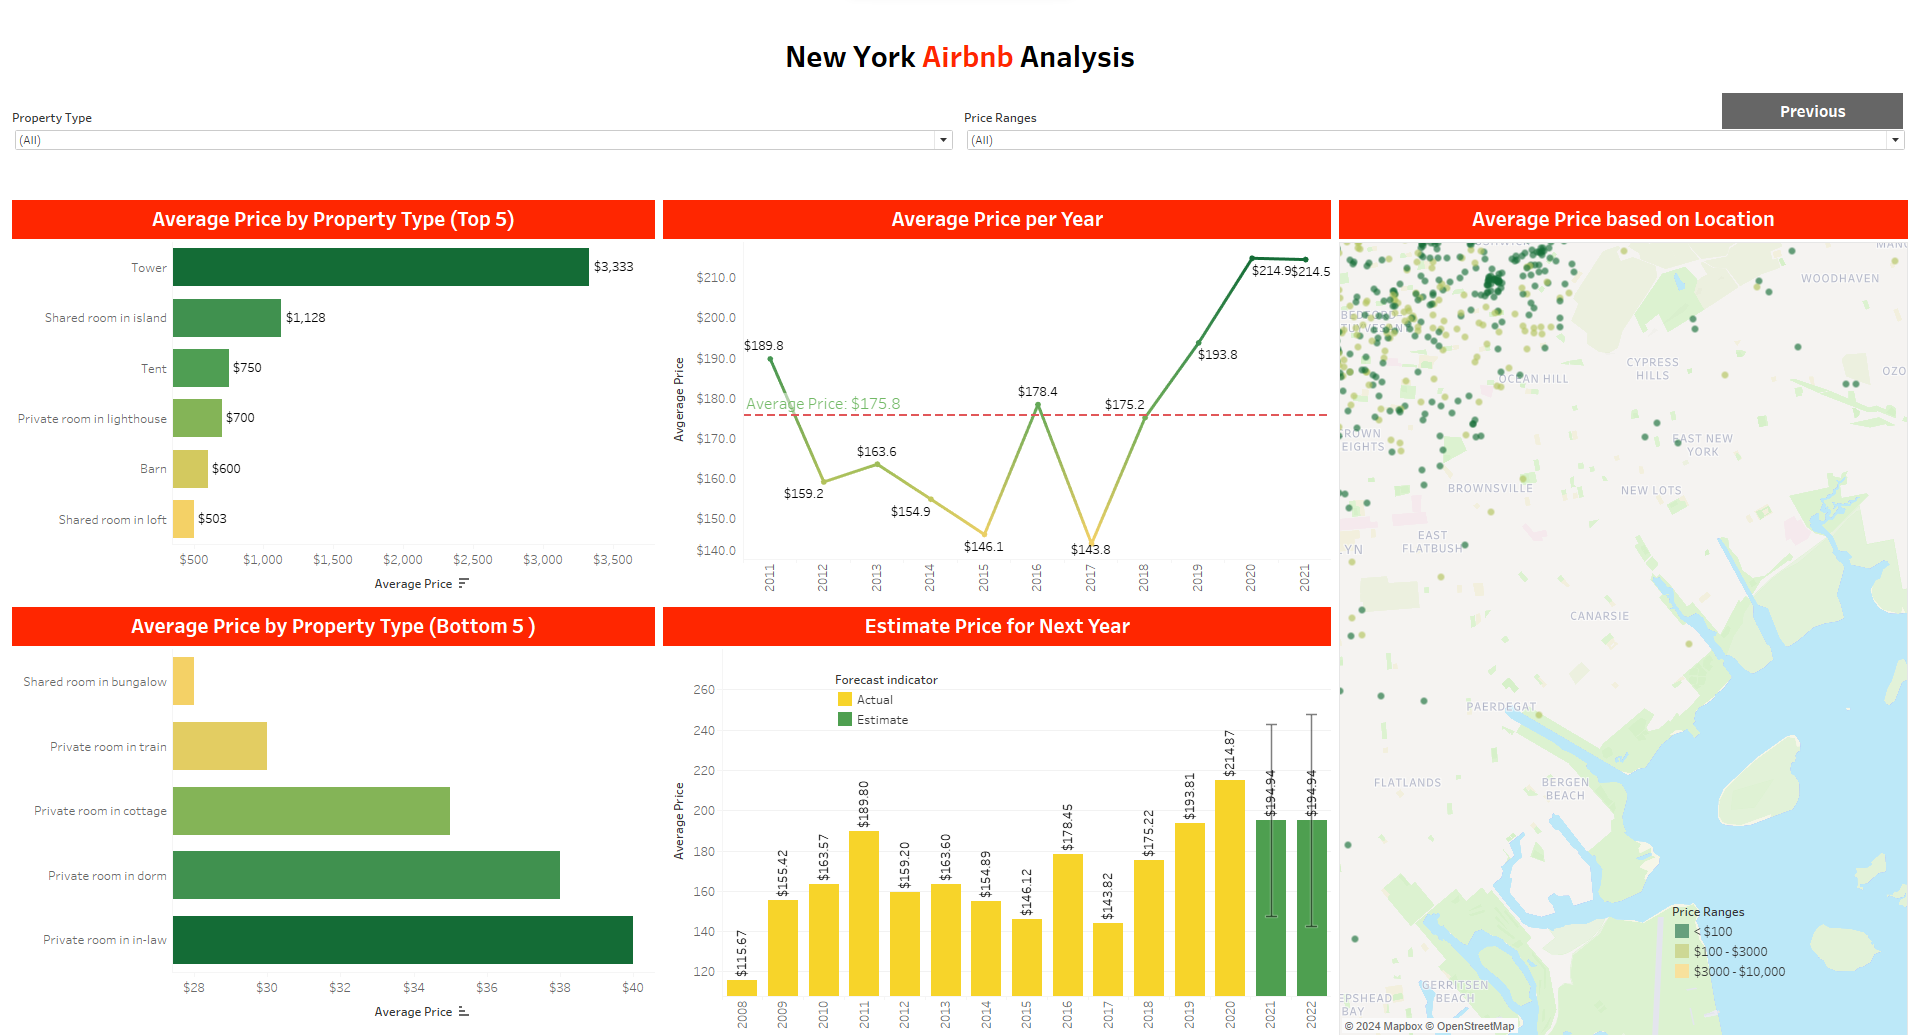

What the dashboard file says about the page in this screenshot:
{"tool":"tableau","page":{"name":"Dashboard 2","canvas":[1000,1000],"units":"permille","ordinal":1},"visuals":[{"type":"text","box":[4.8,9.4,990.3,94]},{"type":"dashboard-object","box":[896.8,90.4,94.7,33.9]},{"type":"filter","title":"Estimate Price for Next Year","param":"[federated.14u7pi00tzqanp1025j4h0wn8xnv].[none:Property Type:nk]","box":[4.8,103.4,495.2,86]},{"type":"filter","title":"Average Price based on Location","param":"[federated.14u7pi00tzqanp1025j4h0wn8xnv].[usr:Calculation_2754443778713198592:nk","box":[500,103.4,495.2,86]},{"type":"worksheet","title":"Average Price by Property Type (Top 5)","mark":"Automatic","rows":["Property Type"],"cols":["Price"],"box":[4.8,189.4,338.4,386.5]},{"type":"worksheet","title":"Average Price per Year","mark":"Line","rows":["Price"],"cols":["Host Since"],"box":[343.2,189.4,351.9,386.5]},{"type":"worksheet","title":"Average Price based on Location","mark":"Circle","rows":["Latitude"],"cols":["Longitude"],"box":[695.2,189.4,300,801.2]},{"type":"worksheet","title":"Average Price by Property Type (Bottom 5 )","mark":"Automatic","rows":["Property Type"],"cols":["Price"],"box":[4.8,575.9,338.4,414.7]},{"type":"worksheet","title":"Estimate Price for Next Year","mark":"Bar","rows":["Price"],"cols":["Host Since"],"box":[343.2,575.9,351.9,414.7]},{"type":"legend","title":"Estimate Price for Next Year","param":"[federated.14u7pi00tzqanp1025j4h0wn8xnv].[none:Forecast Indicator:nk]","box":[435,641.2,120.5,83.3]},{"type":"legend","title":"Average Price based on Location","param":"[federated.14u7pi00tzqanp1025j4h0wn8xnv].[usr:Calculation_2754443778713198592:nk","box":[870.9,861.6,115.7,118.6]}]}

Visuals, with their boxes on the dashboard's canvas, which has no fixed pixel size, in thousandths of its width and height (x1, y1, x2, y2). These are canvas units, not pixel positions in the 1912x1035 screenshot, which may show the page scaled, cropped or inside an application window:
text: (left=5, top=9, right=995, bottom=103)
dashboard-object: (left=897, top=90, right=992, bottom=124)
"Estimate Price for Next Year" filter: (left=5, top=103, right=500, bottom=189)
"Average Price based on Location" filter: (left=500, top=103, right=995, bottom=189)
"Average Price by Property Type (Top 5)" worksheet: (left=5, top=189, right=343, bottom=576)
"Average Price per Year" worksheet (Line marks): (left=343, top=189, right=695, bottom=576)
"Average Price based on Location" worksheet (Circle marks): (left=695, top=189, right=995, bottom=991)
"Average Price by Property Type (Bottom 5 )" worksheet: (left=5, top=576, right=343, bottom=991)
"Estimate Price for Next Year" worksheet (Bar marks): (left=343, top=576, right=695, bottom=991)
"Estimate Price for Next Year" legend: (left=435, top=641, right=556, bottom=724)
"Average Price based on Location" legend: (left=871, top=862, right=987, bottom=980)
